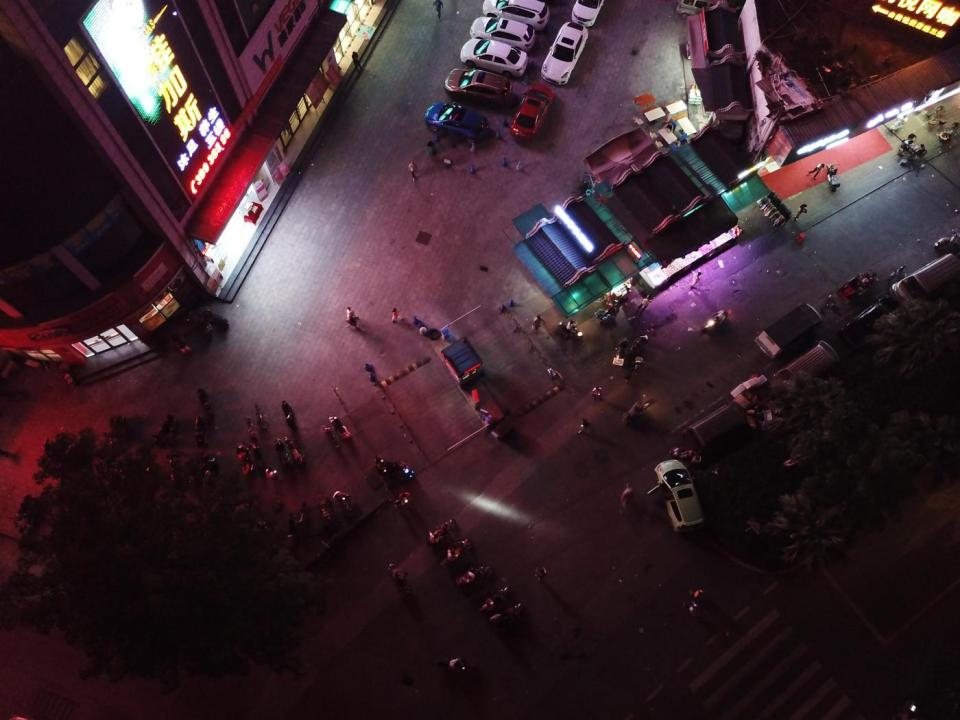car: (647, 459, 704, 531), (836, 296, 904, 352), (540, 21, 589, 86), (460, 38, 528, 79), (424, 100, 490, 142), (510, 82, 554, 142), (444, 68, 511, 106), (470, 15, 536, 53), (482, 0, 549, 32), (571, 0, 605, 27)
van: (754, 301, 824, 358), (889, 252, 960, 308), (681, 401, 751, 455), (772, 340, 841, 394)
